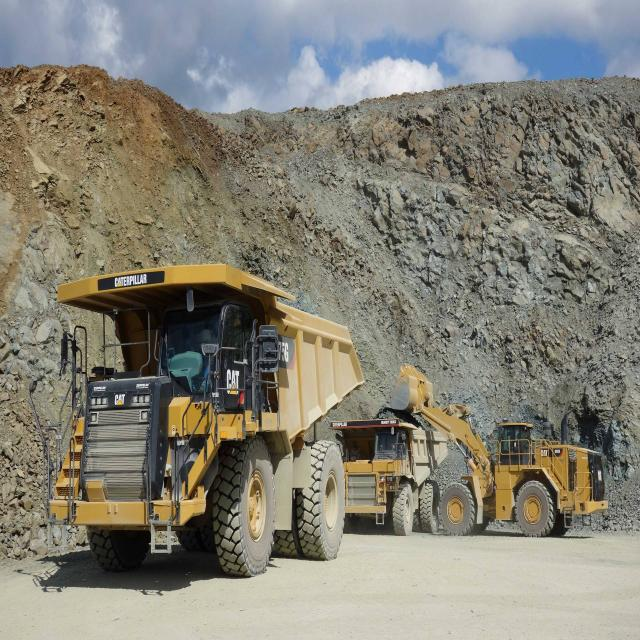buldozerpayloadergrader: (384, 360, 614, 548)
dump_truck: (37, 254, 372, 586), (338, 418, 454, 552)
